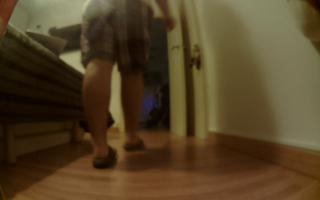person: (81, 1, 177, 170)
